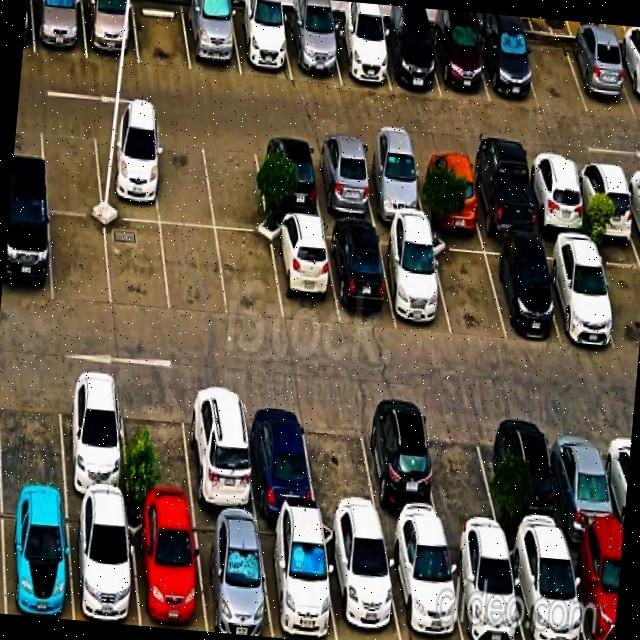empty: (0, 390, 67, 509), (121, 409, 191, 519), (302, 428, 376, 532), (425, 426, 491, 534), (436, 246, 504, 339), (154, 128, 213, 228), (103, 214, 166, 307), (46, 216, 111, 306), (209, 132, 269, 226), (37, 128, 101, 214), (214, 227, 276, 315), (524, 18, 582, 106), (161, 222, 221, 305), (132, 0, 191, 72)
occupied: (177, 416, 254, 530), (128, 520, 202, 630), (198, 526, 272, 636), (362, 422, 434, 534), (56, 407, 130, 515), (0, 512, 73, 619), (263, 530, 333, 640), (328, 539, 402, 640), (66, 518, 136, 624), (247, 425, 312, 539), (490, 423, 554, 536), (549, 436, 615, 542), (553, 247, 617, 356), (392, 541, 462, 640), (514, 550, 588, 640), (385, 233, 449, 335), (496, 242, 558, 346), (94, 120, 160, 215), (456, 545, 522, 640), (420, 140, 480, 242), (475, 150, 535, 252), (332, 225, 392, 326), (270, 225, 334, 318), (253, 136, 319, 224), (526, 158, 584, 257), (578, 160, 635, 260), (364, 144, 421, 232), (382, 5, 438, 94), (432, 9, 487, 98), (335, 1, 388, 89), (482, 14, 534, 102), (315, 140, 369, 224), (1, 211, 52, 299), (570, 21, 624, 102), (183, 0, 239, 77), (286, 0, 339, 81), (235, 0, 289, 77), (81, 0, 134, 57), (32, 0, 82, 54)
